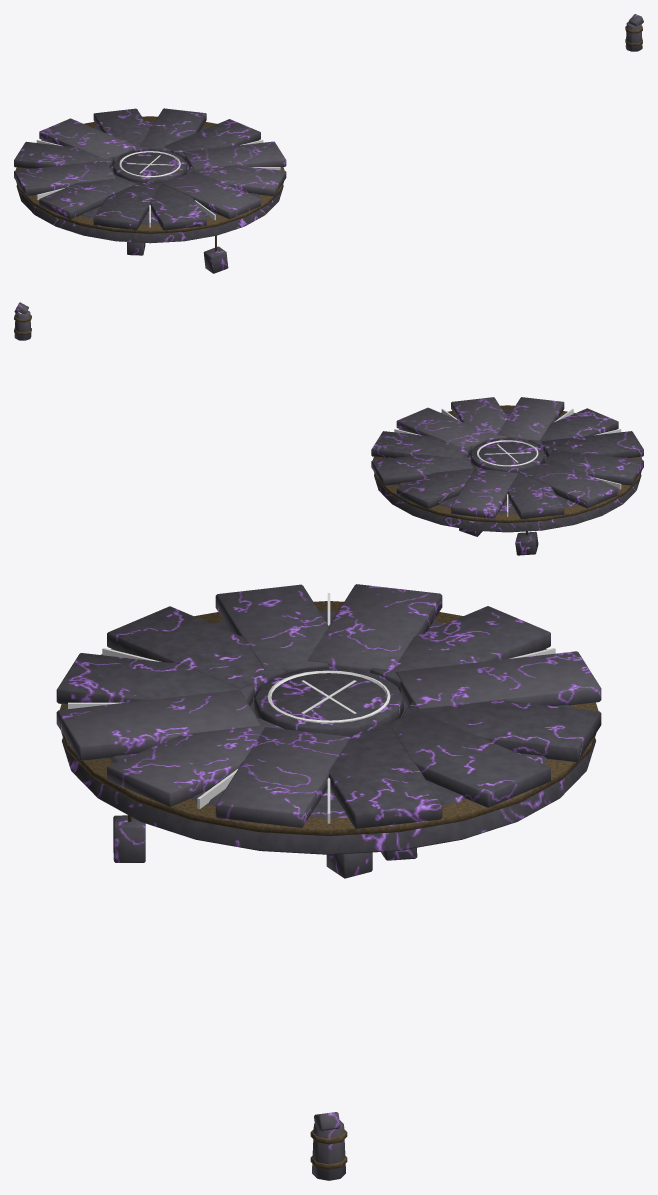
The model's file is OriginBridgeExtra.fbx.
The picture shows the model from 3 angles, top to bottom: view 1: azimuth 30°, elevation 25°; view 2: azimuth 150°, elevation 25°; view 3: azimuth 270°, elevation 25°; orthographic projection. The views are drawn at different scales.
Parts seen in each view (by area): view 1: OriginLanding, OriginLanding_Glow_a35cff, OriginPost; view 2: OriginLanding, OriginLanding_Glow_a35cff, OriginPost; view 3: OriginLanding, OriginLanding_Glow_a35cff, OriginPost.
Part boxes in pixels (box(x1,y1,x2,y2)): OriginLanding: box(14, 108, 286, 273); OriginLanding_Glow_a35cff: box(36, 139, 280, 227); OriginPost: box(625, 14, 643, 51); OriginLanding: box(371, 397, 643, 555); OriginLanding_Glow_a35cff: box(394, 408, 621, 516); OriginPost: box(14, 302, 31, 340); OriginLanding: box(56, 584, 601, 878); OriginLanding_Glow_a35cff: box(68, 593, 555, 823); OriginPost: box(310, 1112, 347, 1180).
Bounding box in the file's own units: 75.62 × 12.19 × 29.22.
2 materials, 1 textured.
